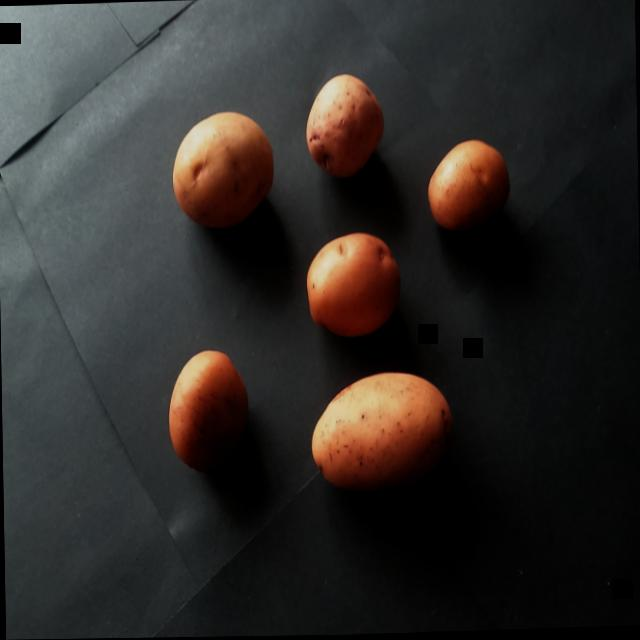Potato: (296, 355, 466, 518), (163, 88, 278, 247), (159, 328, 259, 498), (298, 222, 409, 349), (297, 55, 388, 193), (418, 125, 520, 245)
